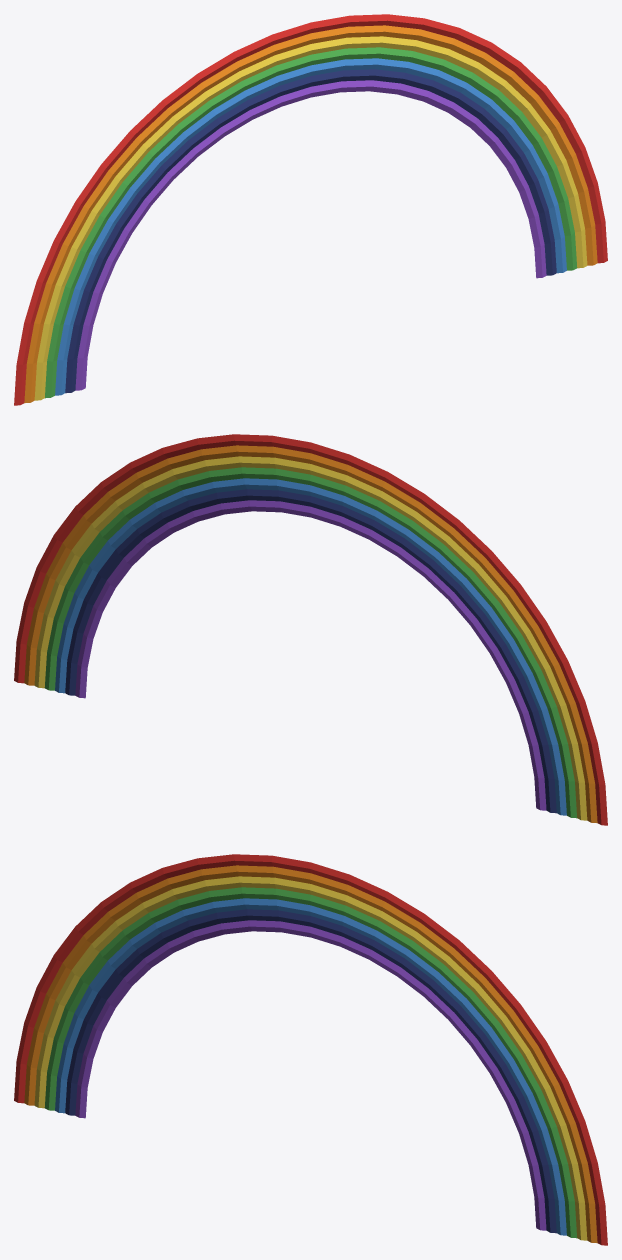
Rendered from rainbow.glb.
The picture shows the model from 3 angles, top to bottom: view 1: azimuth 30°, elevation 25°; view 2: azimuth 150°, elevation 25°; view 3: azimuth 330°, elevation 25°; orthographic projection.
Visible parts, largest first — view 1: rainbow; view 2: rainbow; view 3: rainbow.
Boxes of the visible parts, x1,y1,x2,y2 form: rainbow: (14, 14, 607, 405); rainbow: (14, 434, 607, 825); rainbow: (14, 854, 607, 1245).
Bounding box in the file's own units: 2.04 × 1.02 × 0.0144.
